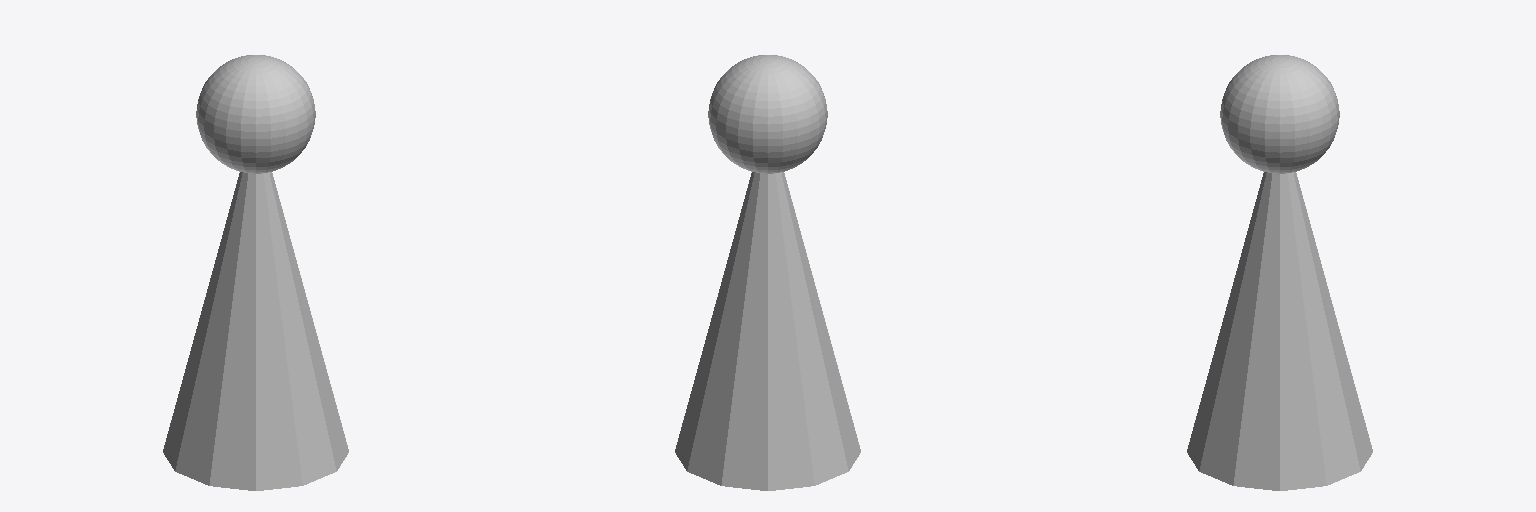
The model's file is player.obj.
The picture shows the model from 3 angles: view 1: azimuth 30°, elevation 25°; view 2: azimuth 150°, elevation 25°; view 3: azimuth 270°, elevation 25°; orthographic projection.
Visible parts, largest first — view 1: Cone, Sphere; view 2: Cone, Sphere; view 3: Cone, Sphere.
Part boxes in pixels (x1,y1,x2,y2): Cone: (163,172,348,490); Sphere: (196,55,315,173); Cone: (675,172,860,490); Sphere: (708,55,827,173); Cone: (1187,172,1372,490); Sphere: (1220,55,1339,173).
Bounding box in the file's own units: 0.5 × 1.16 × 0.5.